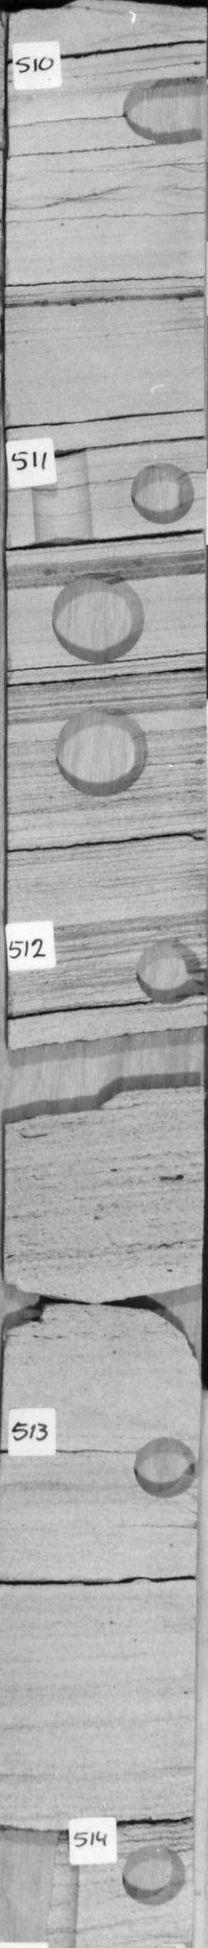hplug: (117, 1837, 193, 1913), (133, 933, 206, 1008), (127, 457, 197, 529), (127, 1431, 199, 1501), (117, 75, 167, 149)
scal: (49, 569, 153, 665), (54, 703, 151, 801)
vplug: (9, 1823, 85, 1948), (29, 448, 98, 549)
